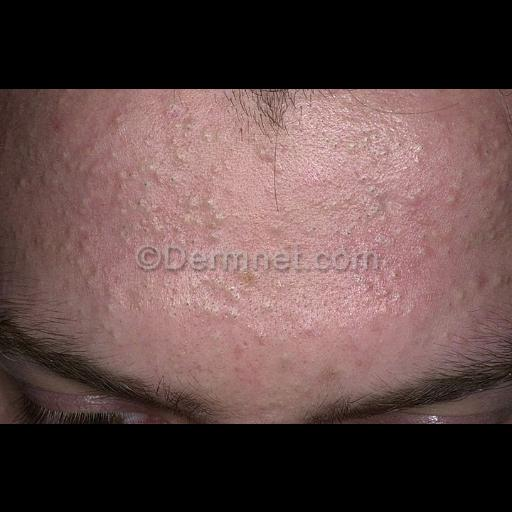Skin_Lesion: (411, 198, 457, 266), (194, 267, 254, 319), (106, 195, 164, 245), (344, 172, 388, 236), (458, 266, 510, 312), (344, 122, 408, 156), (182, 198, 226, 246), (260, 214, 314, 252), (54, 222, 96, 268), (466, 133, 508, 179), (174, 108, 220, 150), (476, 197, 508, 255), (264, 272, 298, 324), (48, 176, 92, 214), (144, 154, 182, 188), (100, 292, 148, 318), (40, 98, 68, 134), (51, 140, 83, 168), (206, 328, 234, 354), (274, 338, 296, 370), (104, 106, 132, 130), (12, 172, 34, 192), (114, 164, 136, 184)
